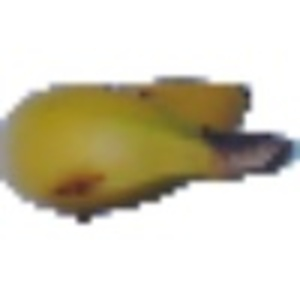banana: (1, 66, 281, 216)
